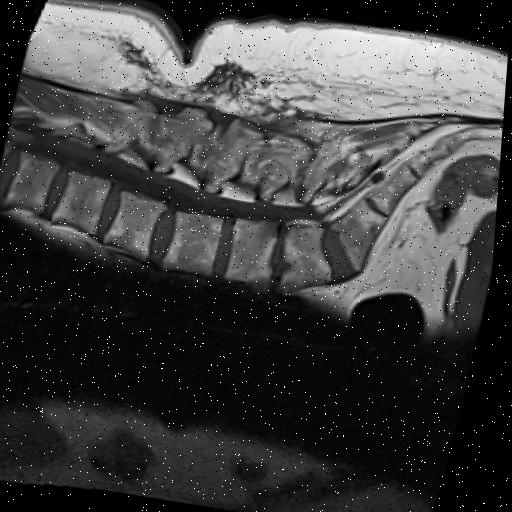L1: (55, 172, 113, 233)
L2: (108, 190, 168, 258)
L3: (169, 210, 227, 275)
L4: (233, 219, 283, 282)
L5: (285, 225, 335, 291)
S1: (336, 199, 390, 268)
